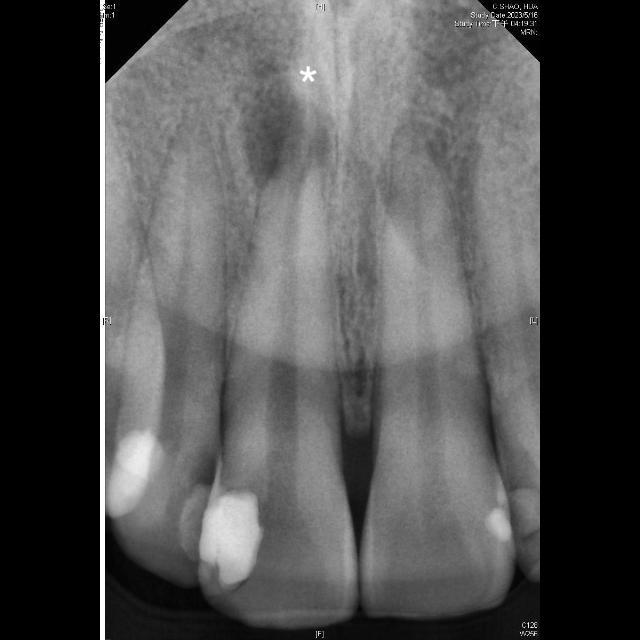test-segment: (198, 104, 359, 630)
